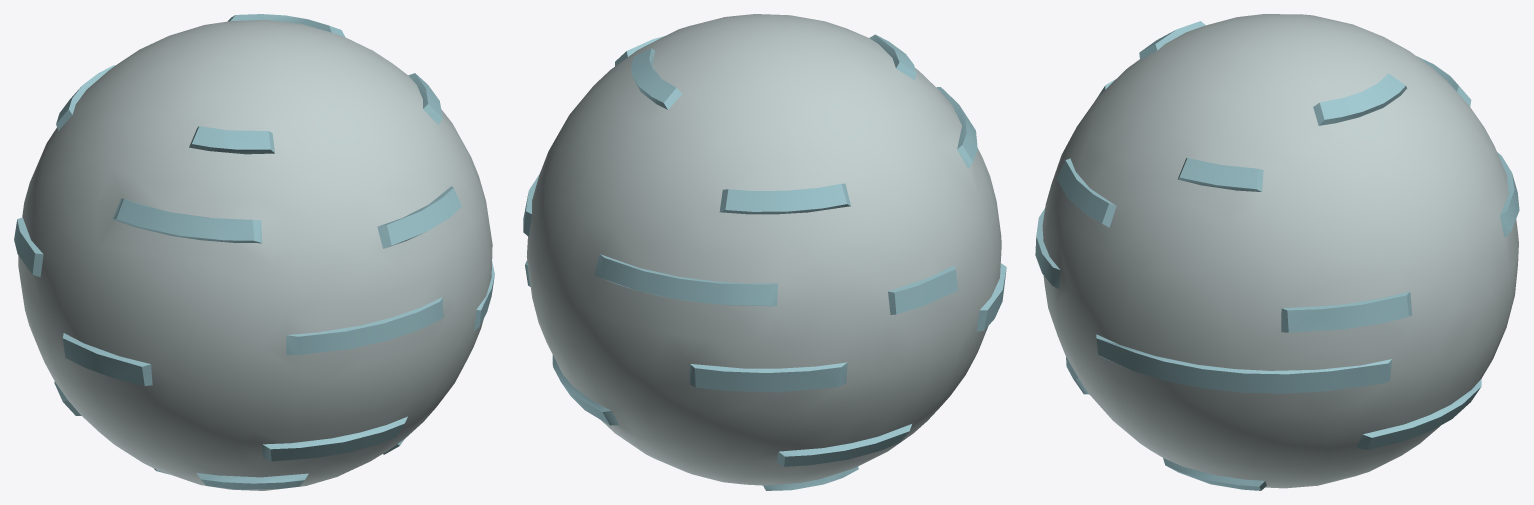
File: Planet_9.gltf
3 renders of one model, left to right at view 1: azimuth 30°, elevation 25°; view 2: azimuth 150°, elevation 25°; view 3: azimuth 270°, elevation 25°, orthographic.
Visible parts, largest first — view 1: Planet_9; view 2: Planet_9; view 3: Planet_9.
Boxes of the visible parts, left/top/right/bottom form: Planet_9: left=14, top=14, right=494, bottom=490; Planet_9: left=523, top=14, right=1006, bottom=490; Planet_9: left=1035, top=14, right=1519, bottom=490.
Size of the model in its own units: 3.82 by 3.75 by 3.81.
Materials: 1 (1 with a texture image).
